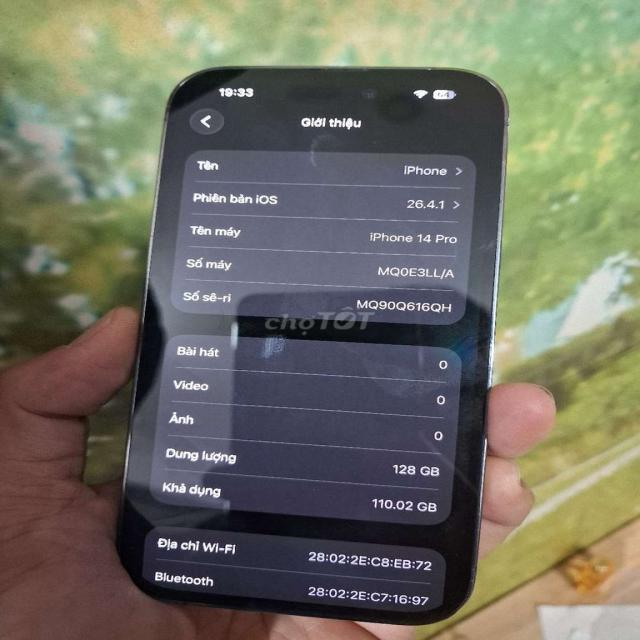gen_14: (106, 59, 485, 630)
scratch: (306, 121, 340, 179)
